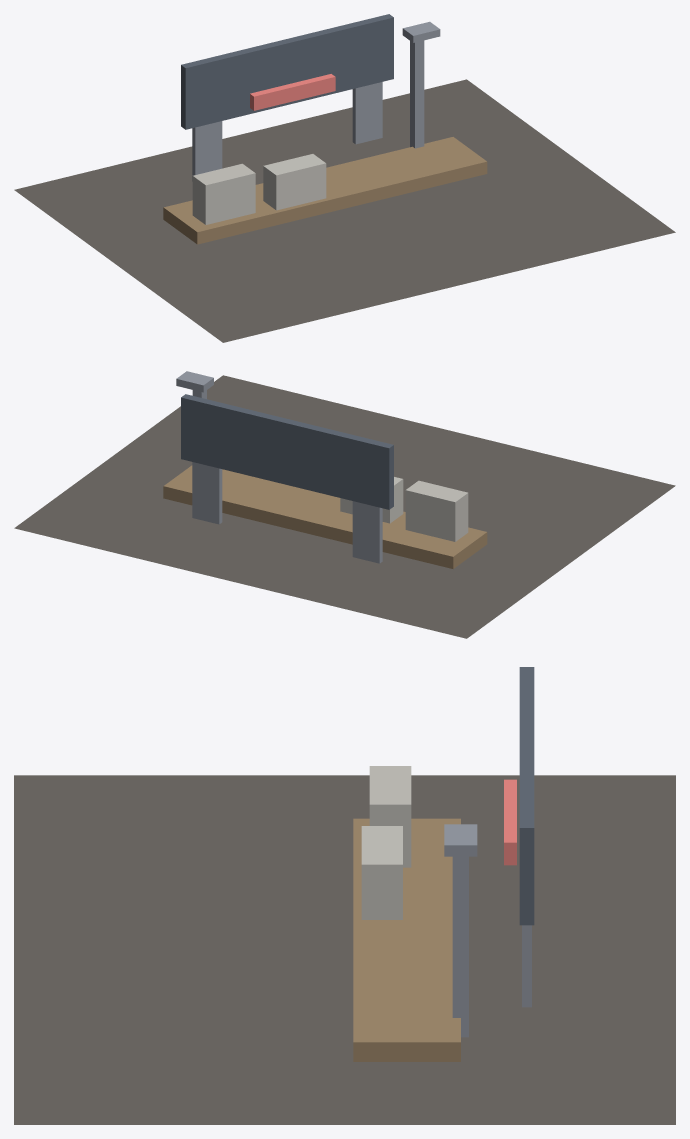
File: world.glb
The picture shows the model from 3 angles, top to bottom: view 1: azimuth 30°, elevation 25°; view 2: azimuth 150°, elevation 25°; view 3: azimuth 270°, elevation 25°; orthographic projection. The views are drawn at different scales.
Visible parts, largest first — view 1: news_opaque_mesh, news_emissive_mesh; view 2: news_opaque_mesh; view 3: news_opaque_mesh, news_emissive_mesh.
Boxes of the visible parts, bbox=[...] form: news_opaque_mesh: bbox=[14, 14, 675, 342]; news_emissive_mesh: bbox=[250, 74, 335, 110]; news_opaque_mesh: bbox=[14, 371, 675, 638]; news_opaque_mesh: bbox=[14, 667, 675, 1124]; news_emissive_mesh: bbox=[504, 779, 516, 865].
Size of the model in its own units: 10 by 2.7 by 8.
